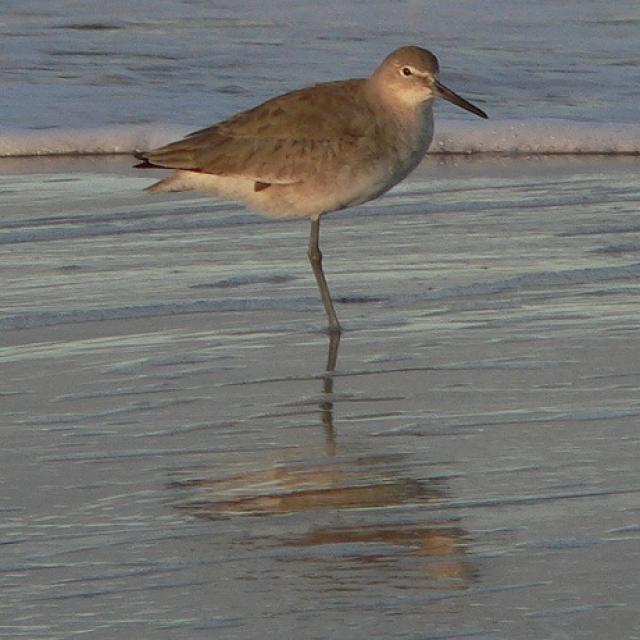bird: (133, 45, 490, 262)
